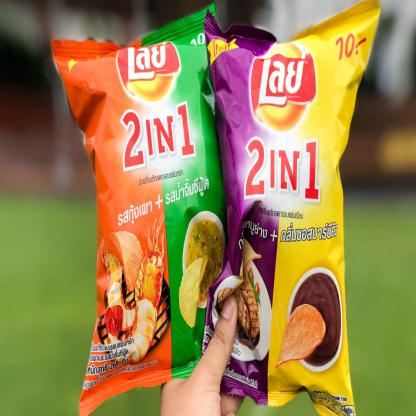potatochip: (50, 0, 231, 416), (204, 0, 380, 416)
